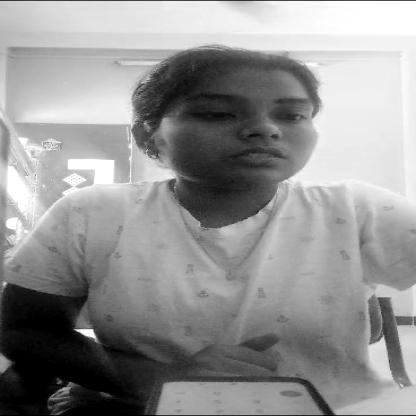Distracted: (141, 49, 316, 178)
